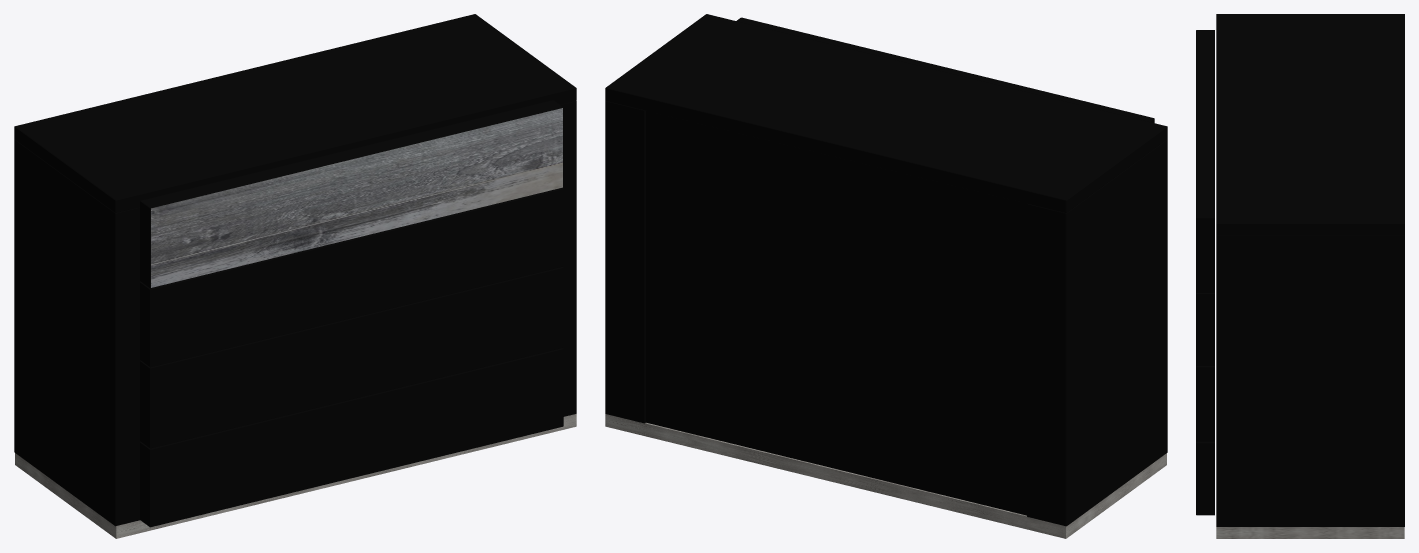
File: bedside.gltf
3 views of the same model, side by side, from view 1: azimuth 30°, elevation 25°; view 2: azimuth 150°, elevation 25°; view 3: azimuth 270°, elevation 25° (orthographic). The views are drawn at different scales.
Visible parts, largest first — view 1: TS_Modo_6 sect Drawer; view 2: TS_Modo_6 sect Drawer; view 3: TS_Modo_6 sect Drawer.
Part boxes in pixels (left/top/right/bottom): TS_Modo_6 sect Drawer: left=14, top=14, right=576, bottom=538; TS_Modo_6 sect Drawer: left=605, top=14, right=1167, bottom=538; TS_Modo_6 sect Drawer: left=1196, top=14, right=1404, bottom=538.
Size of the model in its own units: 0.9538 by 0.6691 by 0.4017.
2 materials, 2 textured.
